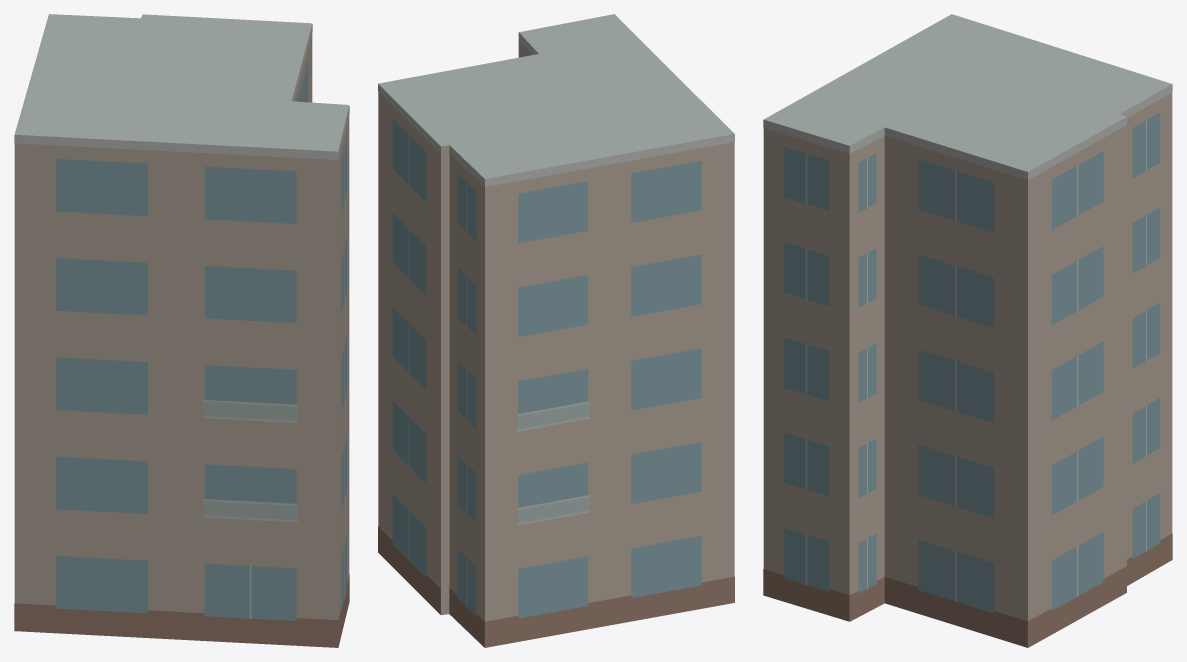
Rendered from survey-upis-33008860.glb.
3 views of the same model, side by side, from view 1: azimuth 30°, elevation 25°; view 2: azimuth 150°, elevation 25°; view 3: azimuth 270°, elevation 25° (orthographic). The views are drawn at different scales.
Parts seen in each view (by area): view 1: survey-upis-33008860.tmp; view 2: survey-upis-33008860.tmp; view 3: survey-upis-33008860.tmp.
Boxes of the visible parts, x1,y1,x2,y2 form: survey-upis-33008860.tmp: [14, 14, 349, 647]; survey-upis-33008860.tmp: [378, 14, 734, 647]; survey-upis-33008860.tmp: [763, 14, 1172, 647].
Bounding box in the file's own units: 10.12 × 14.2 × 11.07.
